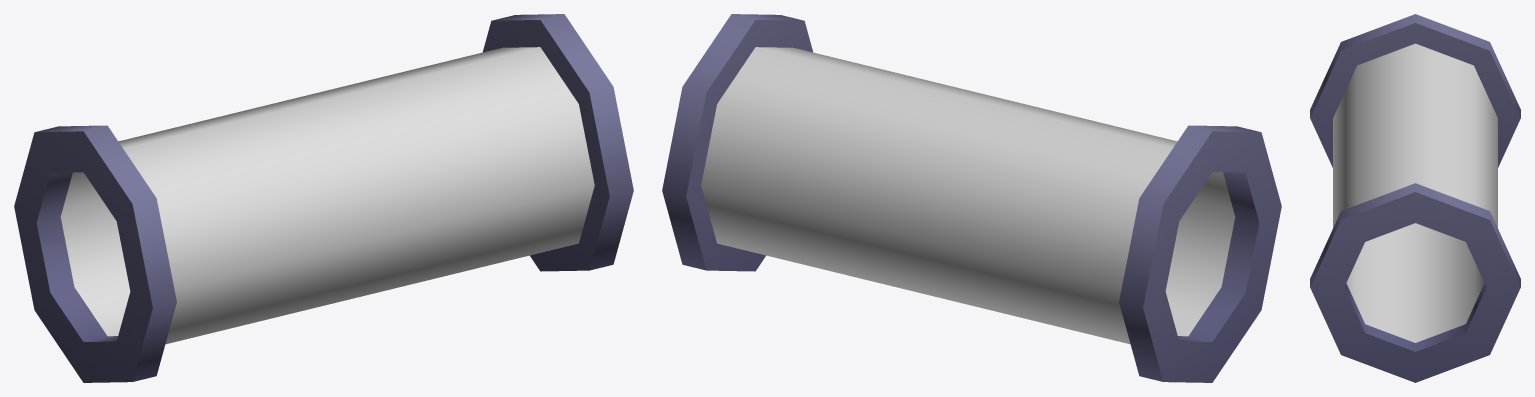
The model's file is pipe-glass-large-long.glb.
The picture shows the model from 3 angles, left to right: view 1: azimuth 30°, elevation 25°; view 2: azimuth 150°, elevation 25°; view 3: azimuth 270°, elevation 25°; orthographic projection. The views are drawn at different scales.
Visible parts, largest first — view 1: pipe-glass-large-long; view 2: pipe-glass-large-long; view 3: pipe-glass-large-long.
Part boxes in pixels (box(x1,y1,x2,y2)): pipe-glass-large-long: box(14, 14, 633, 382); pipe-glass-large-long: box(662, 14, 1281, 382); pipe-glass-large-long: box(1310, 14, 1520, 382).
Size of the model in its own units: 2 by 1 by 1.
